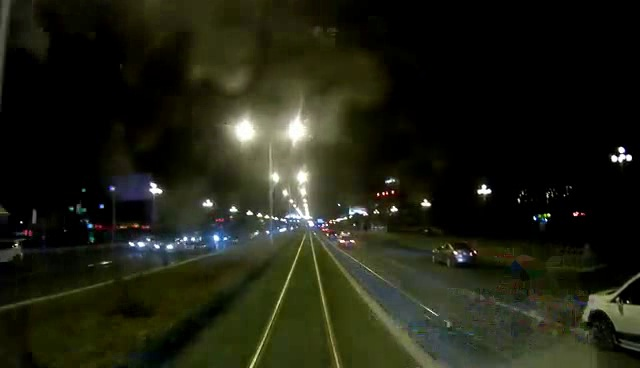car: (435, 241, 484, 270)
